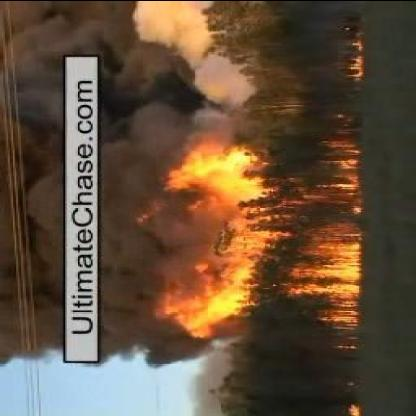-: (100, 26, 170, 366), (2, 53, 61, 361)
foggia-v2-map80-epoch100 - v1 4323: (320, 255, 362, 295)
